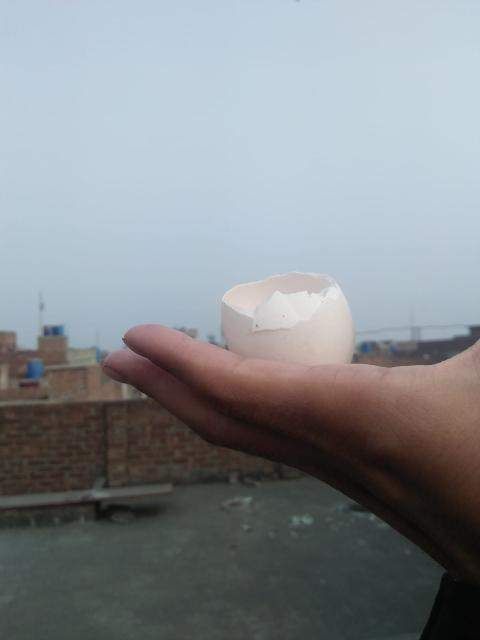Roto: (219, 270, 357, 365)
